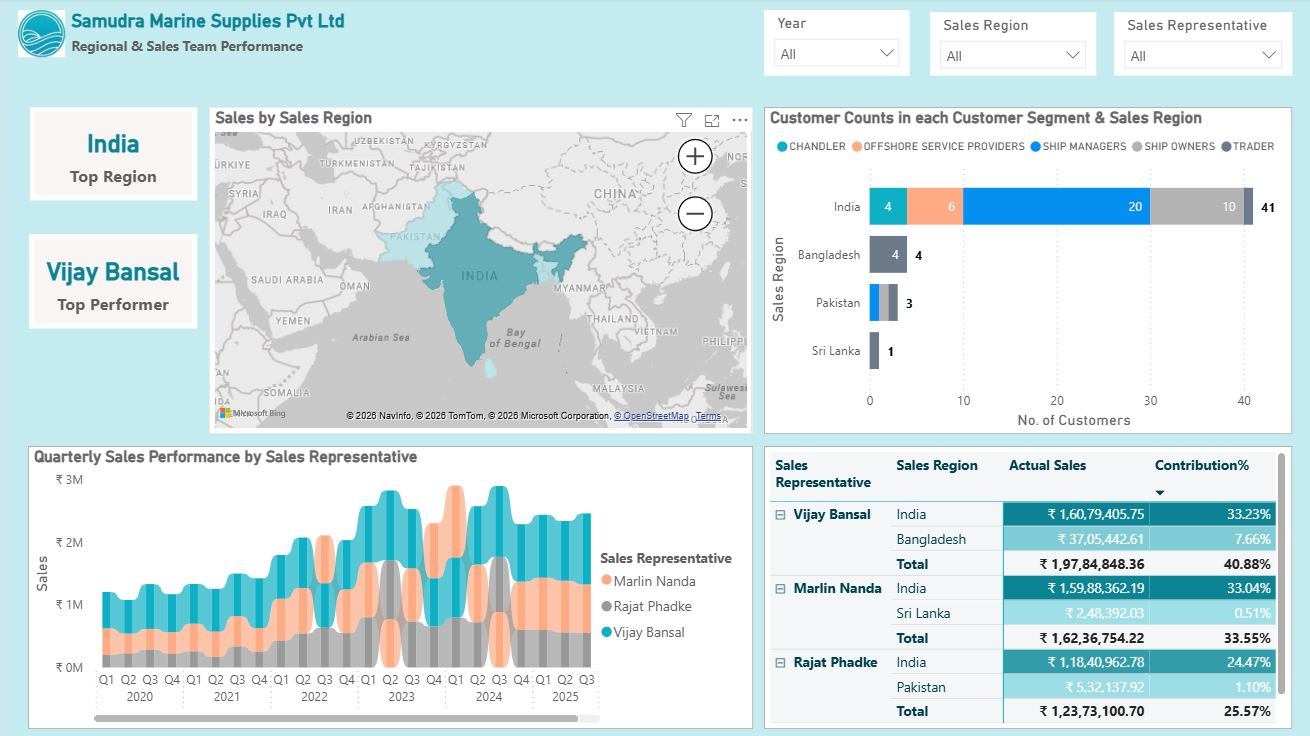

The dashboard page shown, as its layout file describes it:
{"tool":"powerbi","page":{"name":" Regional & Sales Team Performance","canvas":[1280,720],"ordinal":5},"visuals":[{"type":"ribbonChart","title":"Quarterly Sales Performance by Sales Representative","fields":{"Y":["fact _orders.total_sales"],"Series":["dim_sales_representative.Sales Representative"],"Category":["dim_date.Date Hierarchy.Year","dim_date.Date Hierarchy.Quarter"]},"box":[26.3,436.7,706.8,275.9],"z":0},{"type":"barChart","title":"Customer Counts in each Customer Segment & Sales Region","fields":{"Category":["dim_sales_region.Sales Region"],"Series":["dim_customers_segment.Customer Segment"],"Y":["Count(fact _orders.Customer ID)"]},"box":[743.8,106.3,514.7,318.8],"z":1000},{"type":"slicer","fields":{"Values":["dim_sales_representative.Sales Representative"]},"box":[1085,13.6,173.5,62.4],"z":2000},{"type":"card","fields":{"Values":["fact _orders.Top_Performer"]},"box":[27.3,230.1,163.8,91.6],"z":3000},{"type":"pivotTable","fields":{"Values":["fact _orders.Actual_Sales","fact _orders.Contribution%"],"Rows":["dim_sales_representative.Sales Representative","dim_sales_region.Sales Region"]},"box":[743.8,436.7,514.7,275.9],"z":4000},{"type":"card","fields":{"Values":["fact _orders.Top_Region"]},"box":[28.3,106.3,162.8,90.7],"z":5000},{"type":"slicer","fields":{"Values":["dim_sales_region.Sales Region"]},"box":[905.7,13.6,161.8,62.4],"z":6000},{"type":"slicer","fields":{"Values":["dim_date.Year"]},"box":[743.8,11.7,142.3,64.3],"z":7000},{"type":"filledMap","title":"Sales by Sales Region","fields":{"Category":["dim_sales_region.Sales Region"]},"box":[202.8,106.3,530.3,318.8],"z":8000},{"type":"textbox","title":"Samudra Marine Supplies Pvt Ltd","box":[63.4,11.7,310,51.7],"z":9000},{"type":"image","box":[16.6,11.7,46.8,45.8],"z":10000}]}

Visuals, with their boxes in screenshot pixels (x1, y1, x2, y2), scaled from the page's 1280x720 canvas onto the 1310x736 screenshot:
"Quarterly Sales Performance by Sales Representative" ribbonChart: locate(27, 446, 750, 728)
"Customer Counts in each Customer Segment & Sales Region" barChart: locate(761, 109, 1288, 435)
slicer - dim_sales_representative.Sales Representative: locate(1110, 14, 1288, 78)
card - fact _orders.Top_Performer: locate(28, 235, 196, 329)
pivotTable - fact _orders.Actual_Sales x fact _orders.Contribution%: locate(761, 446, 1288, 728)
card - fact _orders.Top_Region: locate(29, 109, 196, 201)
slicer - dim_sales_region.Sales Region: locate(927, 14, 1093, 78)
slicer - dim_date.Year: locate(761, 12, 907, 78)
"Sales by Sales Region" filledMap: locate(208, 109, 750, 435)
"Samudra Marine Supplies Pvt Ltd" textbox: locate(65, 12, 382, 65)
image: locate(17, 12, 65, 59)
